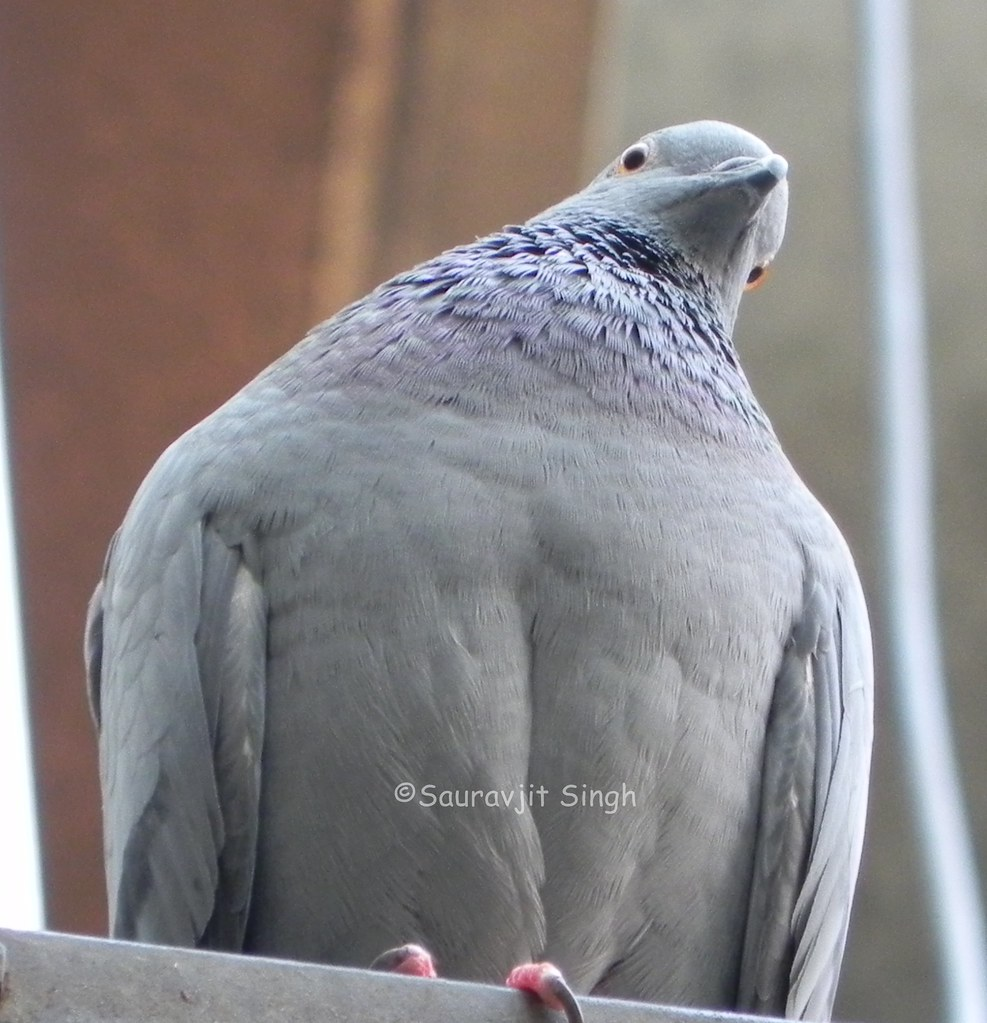pigeon: (72, 110, 898, 1020)
